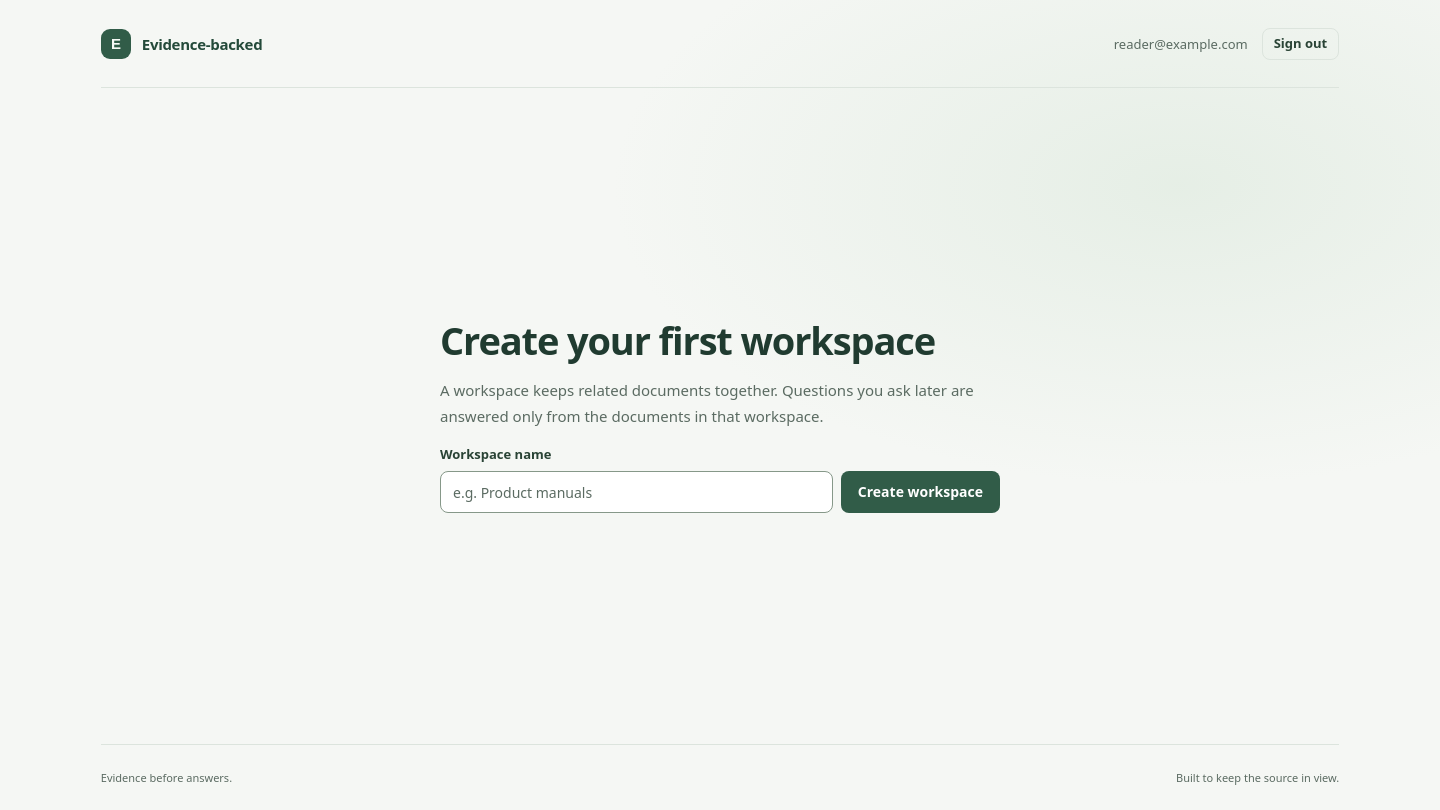
Scenario: App › signs out
Expected: the heading "Create your first workspace" is shown, [440,319,1000,362]
Click the button "Sign out": point(1300, 44) [1262,28,1339,60]
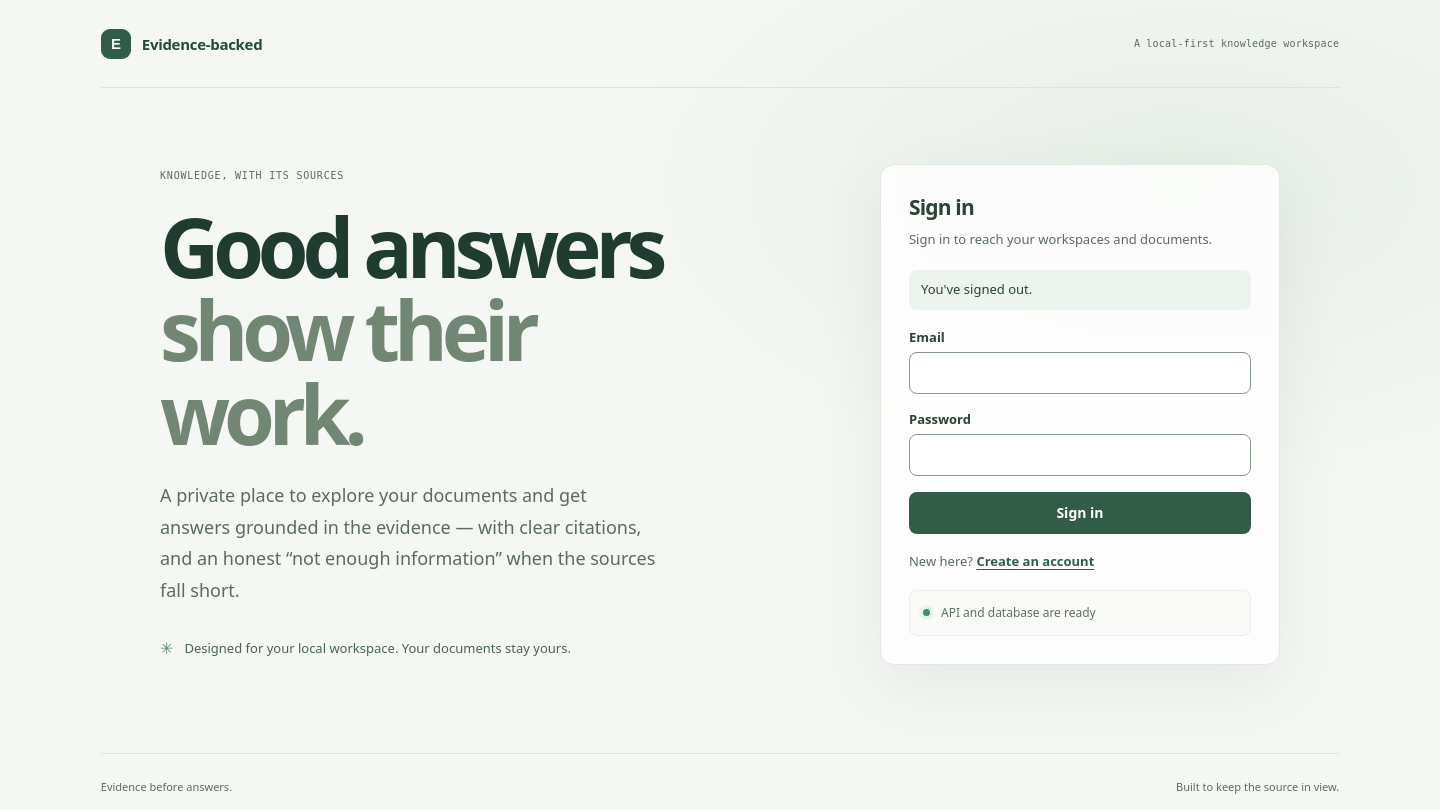
Expected: the text "You've signed out." is shown, [909,270,1251,310]
Expected: the text "reader@example.com" is gone
